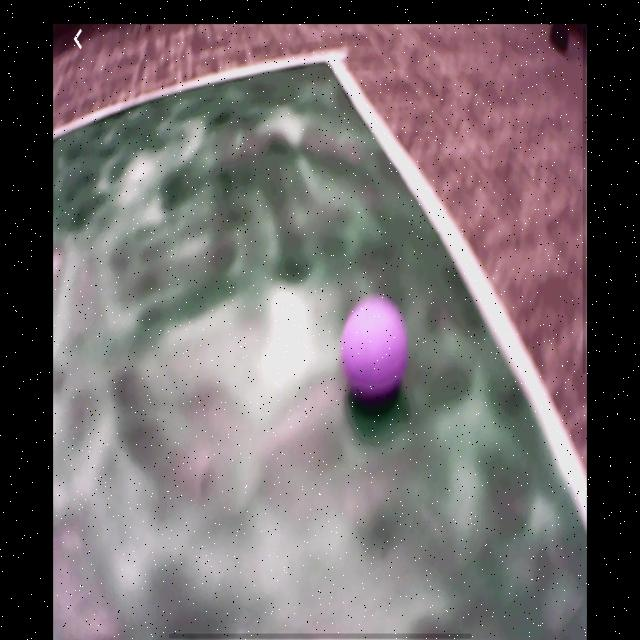ball: (345, 299, 403, 402)
